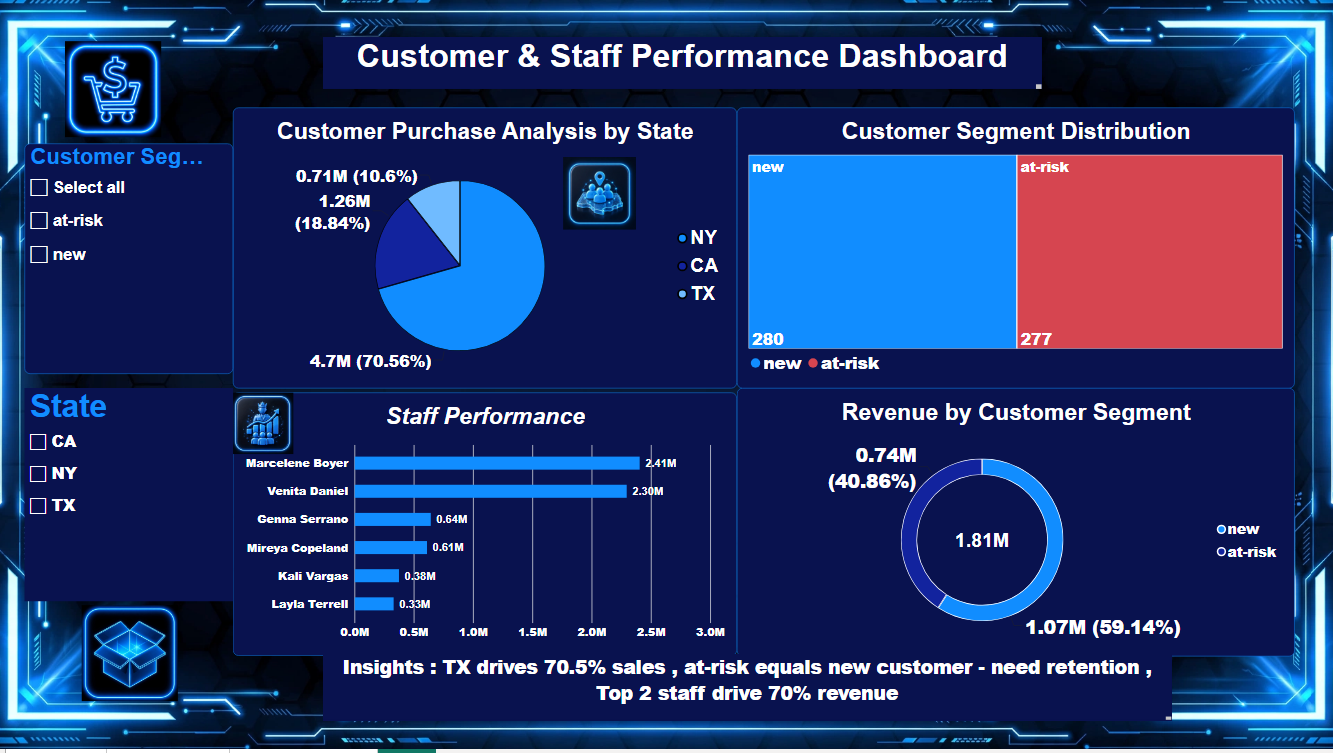

This screenshot's page, from the dashboard's own definition file:
{"tool":"powerbi","page":{"name":"Customers","canvas":[1920,1080],"ordinal":2},"visuals":[{"type":"clusteredBarChart","title":"Staff Performance","fields":{"Category":["staffs.full name"],"Y":["brands.Total Revenue"]},"box":[336.2,567.8,724.6,378.3],"z":1000},{"type":"image","box":[311.2,567.8,136.3,88.6],"z":2000},{"type":"pieChart","title":"Customer Purchase Analysis by State","fields":{"Category":["stores.state"],"Y":["brands.Total Revenue"]},"box":[336.2,156.7,724.5,404.3],"z":3000},{"type":"image","box":[804,229.4,118.1,104.5],"z":4000},{"type":"treemap","title":"Customer Segment Distribution","fields":{"Group":["customer_segments.segment"],"Values":["Count(customer_segments.customer_id)"]},"box":[1060.7,156.7,801.8,404.3],"z":5000},{"type":"donutChart","title":"Revenue by Customer Segment","fields":{"Category":["customer_segments.segment"],"Y":["Sum(order_items.list_price)"]},"box":[1060.7,561,801.8,386.1],"z":6000},{"type":"slicer","fields":{"Values":["customer_segments.segment"]},"box":[36.3,209,299.8,331.6],"z":7000},{"type":"image","box":[95.4,56.8,138.5,149.9],"z":8000},{"type":"image","box":[118.1,867.6,138.5,149.9],"z":9000},{"type":"textbox","title":"Customer & Staff Performance Dashboard","box":[465.6,56.8,1033.4,75],"z":10000},{"type":"textbox","title":"Insights : TX drives 70.5% sales , at-risk equals new customer - need retention , Top 2 staff drive 70% revenue","box":[465.6,942.6,1219.7,95.4],"z":11000},{"type":"slicer","fields":{"Values":["stores.state"]},"box":[36.3,561,299.8,306.6],"z":11001}]}

Visuals, with their boxes in screenshot pixels (x1, y1, x2, y2), scaled from the page's 1920x1080 canvas onto the 1333x753 screenshot:
"Staff Performance" clusteredBarChart: pyautogui.locateOnScreen(233, 396, 736, 660)
image: pyautogui.locateOnScreen(216, 396, 311, 458)
"Customer Purchase Analysis by State" pieChart: pyautogui.locateOnScreen(233, 109, 736, 391)
image: pyautogui.locateOnScreen(558, 160, 640, 233)
"Customer Segment Distribution" treemap: pyautogui.locateOnScreen(736, 109, 1293, 391)
"Revenue by Customer Segment" donutChart: pyautogui.locateOnScreen(736, 391, 1293, 660)
slicer - customer_segments.segment: pyautogui.locateOnScreen(25, 146, 233, 377)
image: pyautogui.locateOnScreen(66, 40, 162, 144)
image: pyautogui.locateOnScreen(82, 605, 178, 709)
"Customer & Staff Performance Dashboard" textbox: pyautogui.locateOnScreen(323, 40, 1041, 92)
"Insights : TX drives 70.5% sales , at-risk equals new customer - need retention , Top 2 staff drive 70% revenue" textbox: pyautogui.locateOnScreen(323, 657, 1170, 724)
slicer - stores.state: pyautogui.locateOnScreen(25, 391, 233, 605)
